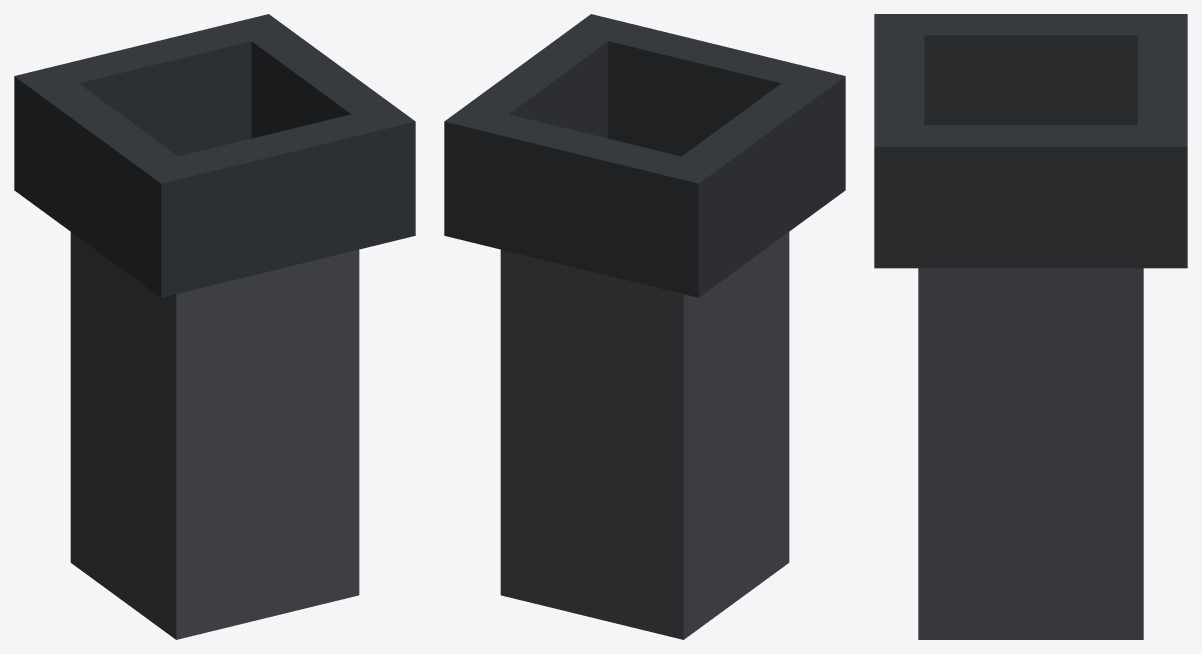
The model's file is Chimney1_C1.fbx.
3 views of the same model, side by side, from view 1: azimuth 30°, elevation 25°; view 2: azimuth 150°, elevation 25°; view 3: azimuth 270°, elevation 25° (orthographic). The views are drawn at different scales.
Parts seen in each view (by area): view 1: Chimney1_C1; view 2: Chimney1_C1; view 3: Chimney1_C1.
Part boxes in pixels (x1=…): Chimney1_C1: x1=14, y1=14, x2=415, y2=639; Chimney1_C1: x1=444, y1=14, x2=845, y2=639; Chimney1_C1: x1=874, y1=14, x2=1187, y2=639.
Size of the model in its own units: 55.59 by 100 by 55.59.
